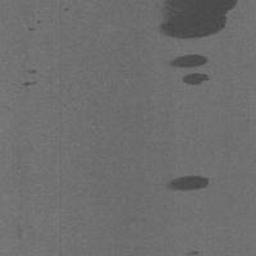Oil spot: (155, 0, 239, 41), (166, 52, 210, 86), (161, 174, 210, 192), (26, 18, 44, 33), (183, 250, 202, 256), (27, 68, 40, 76), (22, 81, 38, 87), (63, 6, 72, 13)
